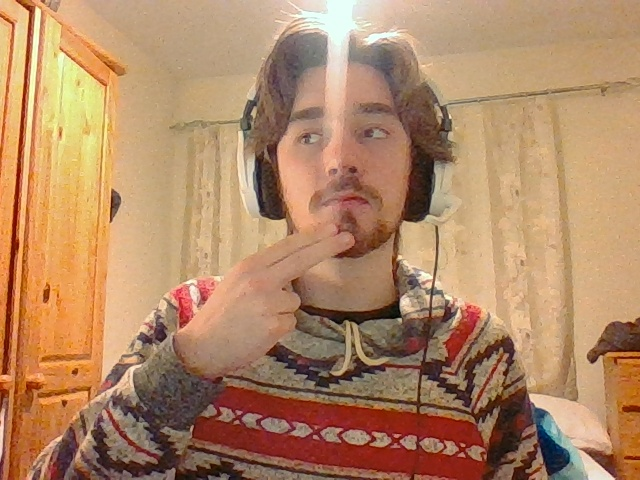afternoon: (173, 223, 355, 386)
